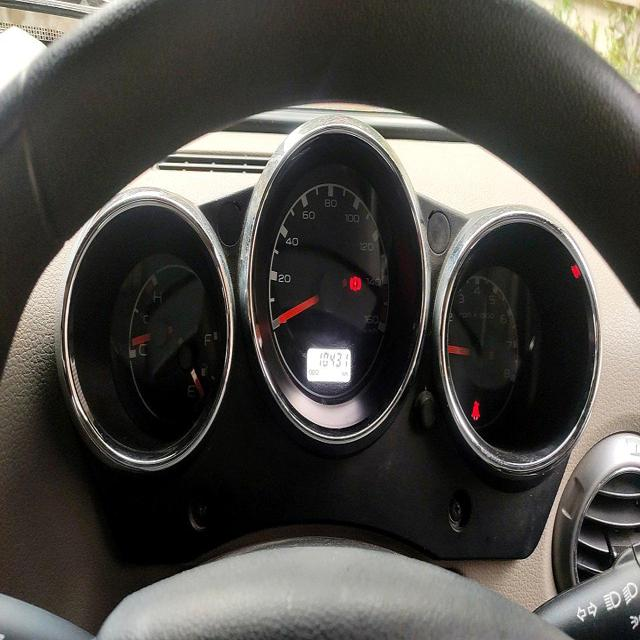odometer: (318, 350, 350, 369)
